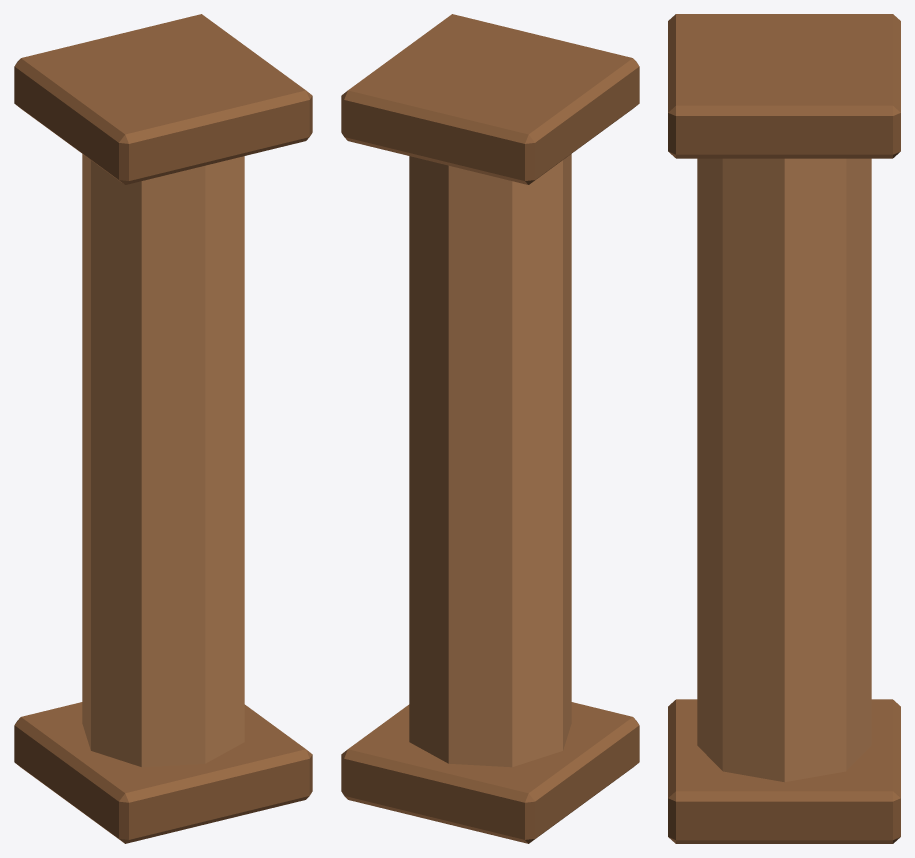
File: SM_Pillar.fbx
3 views of the same model, side by side, from view 1: azimuth 30°, elevation 25°; view 2: azimuth 150°, elevation 25°; view 3: azimuth 270°, elevation 25° (orthographic). The views are drawn at different scales.
Parts seen in each view (by area): view 1: SM_Pillar, SM_Pillar_Cap, SM_Pillar_Base; view 2: SM_Pillar, SM_Pillar_Cap, SM_Pillar_Base; view 3: SM_Pillar, SM_Pillar_Cap, SM_Pillar_Base.
Boxes of the visible parts, bbox=[...] form: SM_Pillar: bbox=[82, 154, 244, 767]; SM_Pillar_Cap: bbox=[14, 14, 312, 184]; SM_Pillar_Base: bbox=[14, 702, 312, 843]; SM_Pillar: bbox=[409, 154, 571, 767]; SM_Pillar_Cap: bbox=[341, 14, 639, 184]; SM_Pillar_Base: bbox=[341, 702, 639, 843]; SM_Pillar: bbox=[697, 158, 871, 782]; SM_Pillar_Cap: bbox=[668, 14, 900, 158]; SM_Pillar_Base: bbox=[668, 699, 900, 843].
Bounding box in the file's own units: 1.2 × 1.2 × 4.2.
